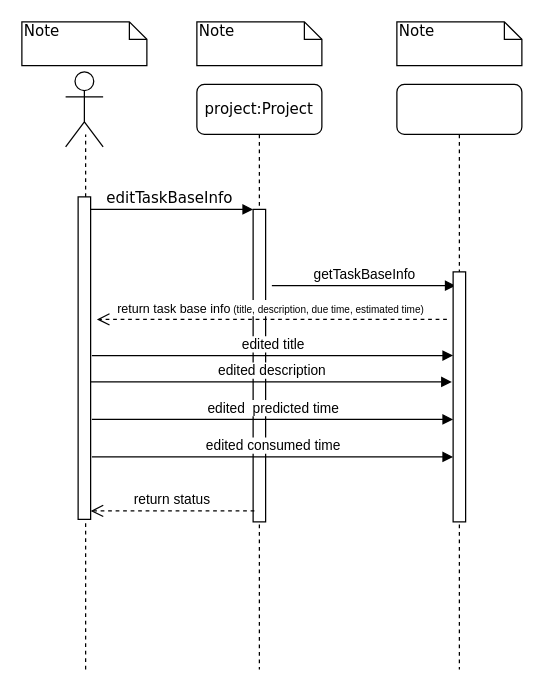
This 544x693 diagram has some shape labels left out. Each missing label, with the box of its shape:
task:Task: (396, 83, 522, 669)
user: (64, 71, 103, 147)
